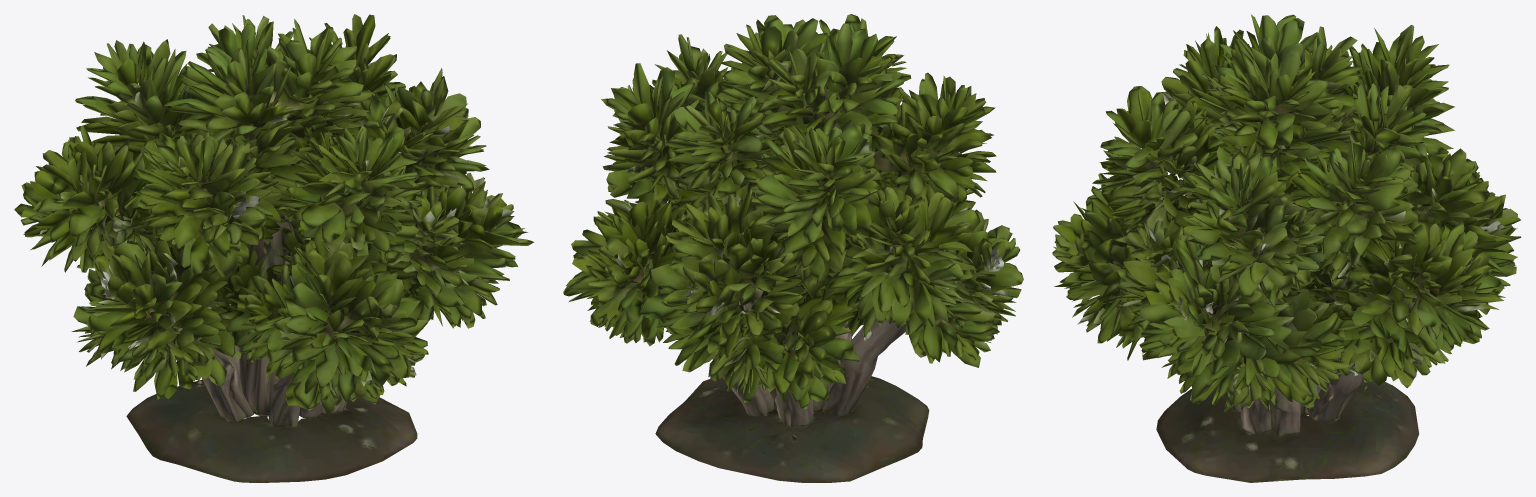
File: nature_bush_t1_myrtle.glb
3 renders of one model, left to right at view 1: azimuth 30°, elevation 25°; view 2: azimuth 150°, elevation 25°; view 3: azimuth 270°, elevation 25°, orthographic. The views are drawn at different scales.
Parts seen in each view (by area): view 1: world; view 2: world; view 3: world.
Boxes of the visible parts, x1=… form: world: x1=14, y1=14, x2=534, y2=482; world: x1=563, y1=14, x2=1023, y2=482; world: x1=1052, y1=14, x2=1521, y2=482.
Size of the model in its own units: 1.07 by 0.9999 by 1.07.
Materials: 1 (1 with a texture image).
